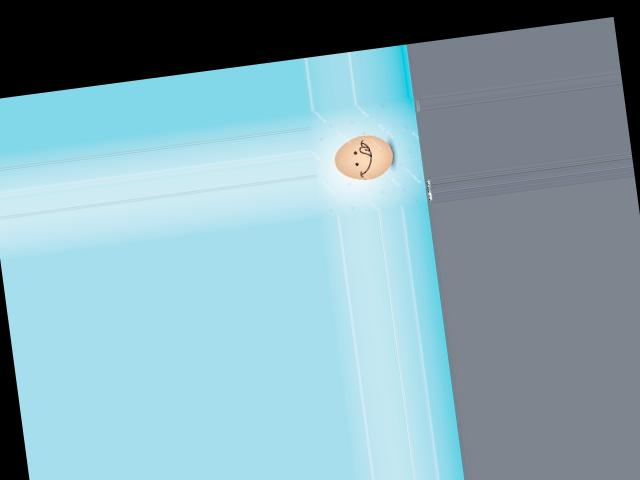egg: (331, 131, 395, 183)
